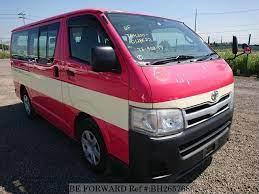Van: (9, 9, 236, 169)
